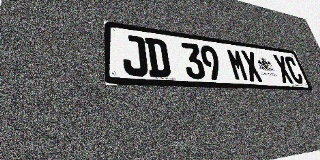3: (181, 42, 206, 79)
9: (199, 45, 224, 80)
C: (283, 56, 305, 84)
D: (145, 37, 172, 78)
J: (121, 34, 149, 77)
M: (226, 48, 250, 81)
X: (240, 50, 263, 82), (272, 54, 294, 84)
